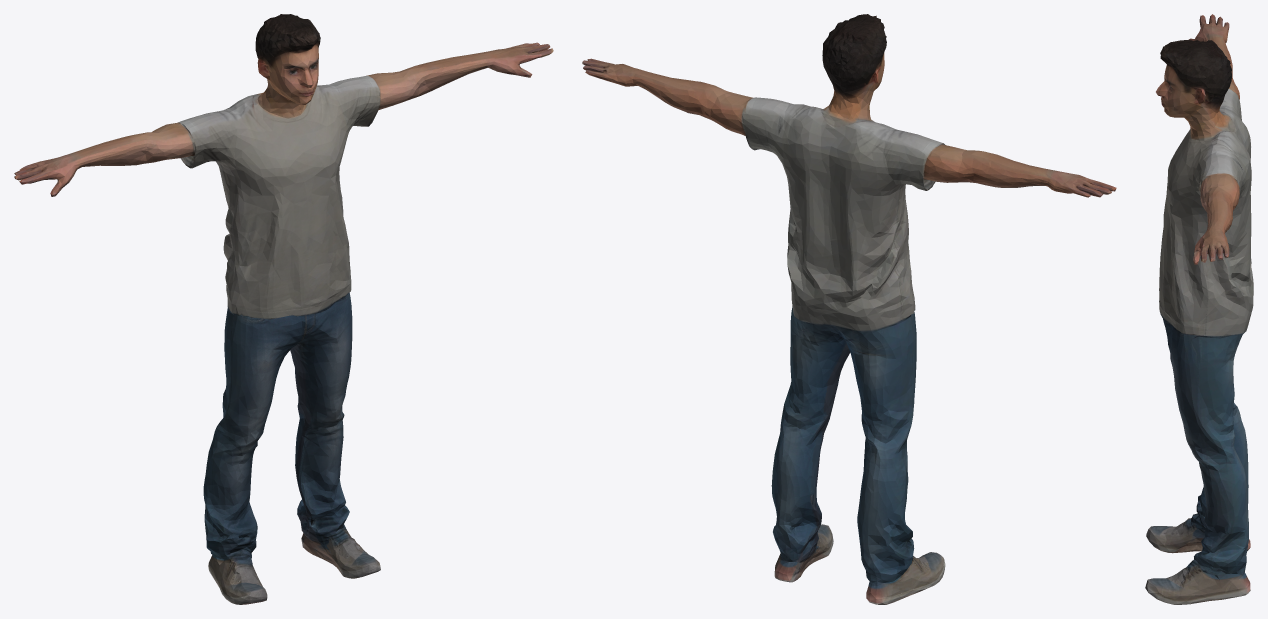
The model's file is a_young_man_T_pose_po_0616120943_texture.fbx.
3 renders of one model, left to right at view 1: azimuth 30°, elevation 25°; view 2: azimuth 150°, elevation 25°; view 3: azimuth 270°, elevation 25°, orthographic. The views are drawn at different scales.
Visible parts, largest first — view 1: temp; view 2: temp; view 3: temp.
Boxes of the visible parts, x1,y1,x2,y2 form: temp: (14,14,553,604); temp: (582,14,1116,604); temp: (1145,14,1253,604).
Bounding box in the file's own units: 200 × 199 × 37.11.
Materials: 1 (1 with a texture image).
